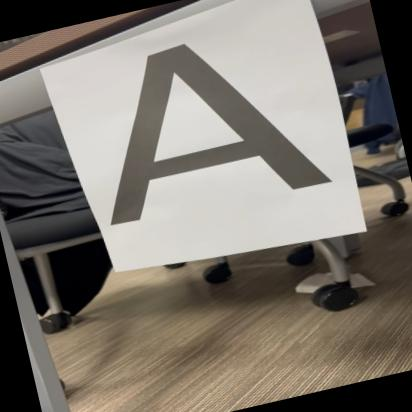seat: (59, 13, 341, 246)
